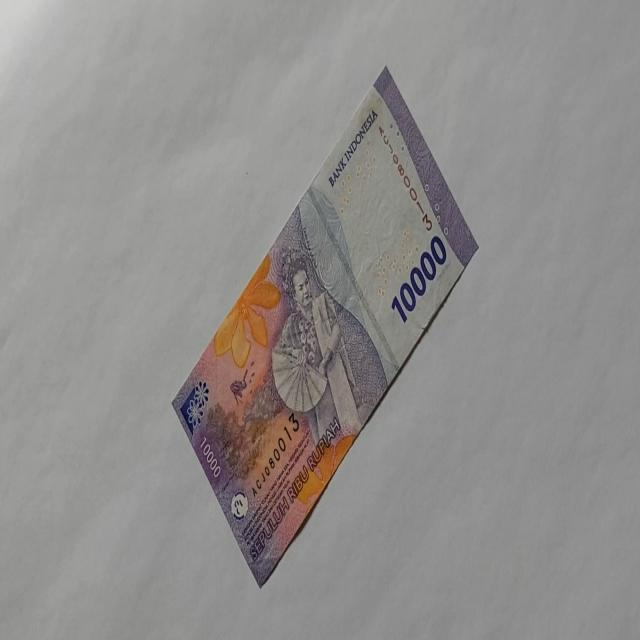sepuluh ribu rupiah: (170, 64, 479, 588), (389, 232, 447, 324), (326, 106, 378, 190)
